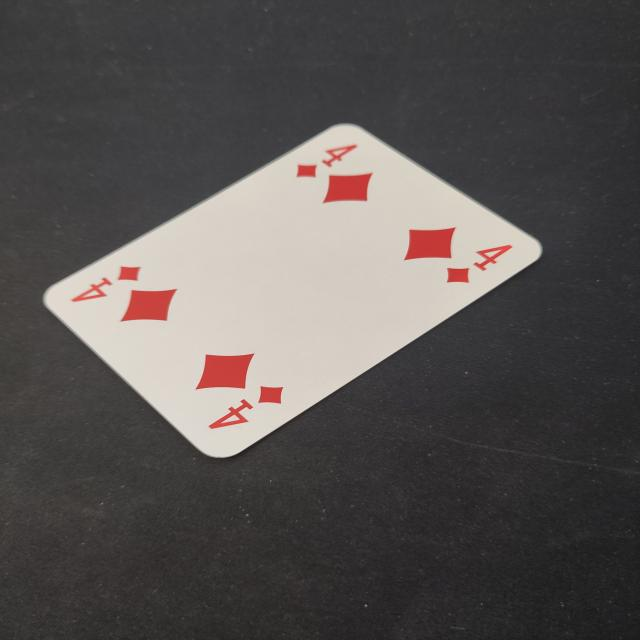4d: (200, 374, 296, 438), (438, 237, 522, 292), (63, 260, 150, 312), (289, 141, 362, 187)
